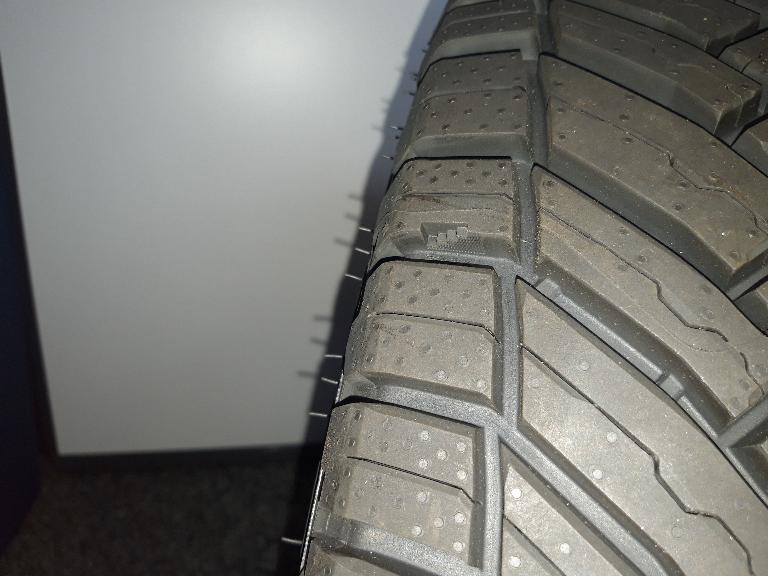temoin:100: (418, 220, 484, 255)
